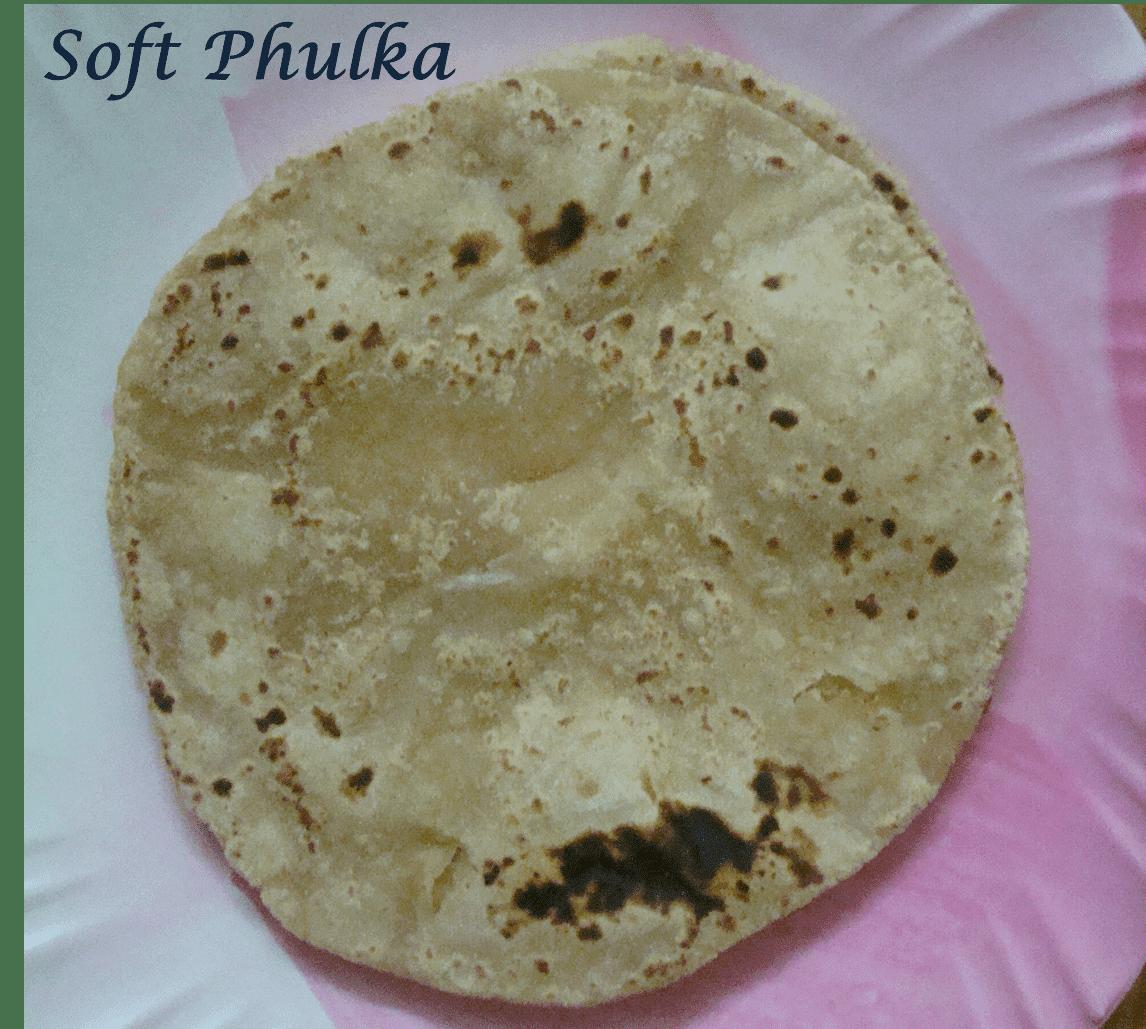roti phulka: (103, 107, 1032, 1008)
